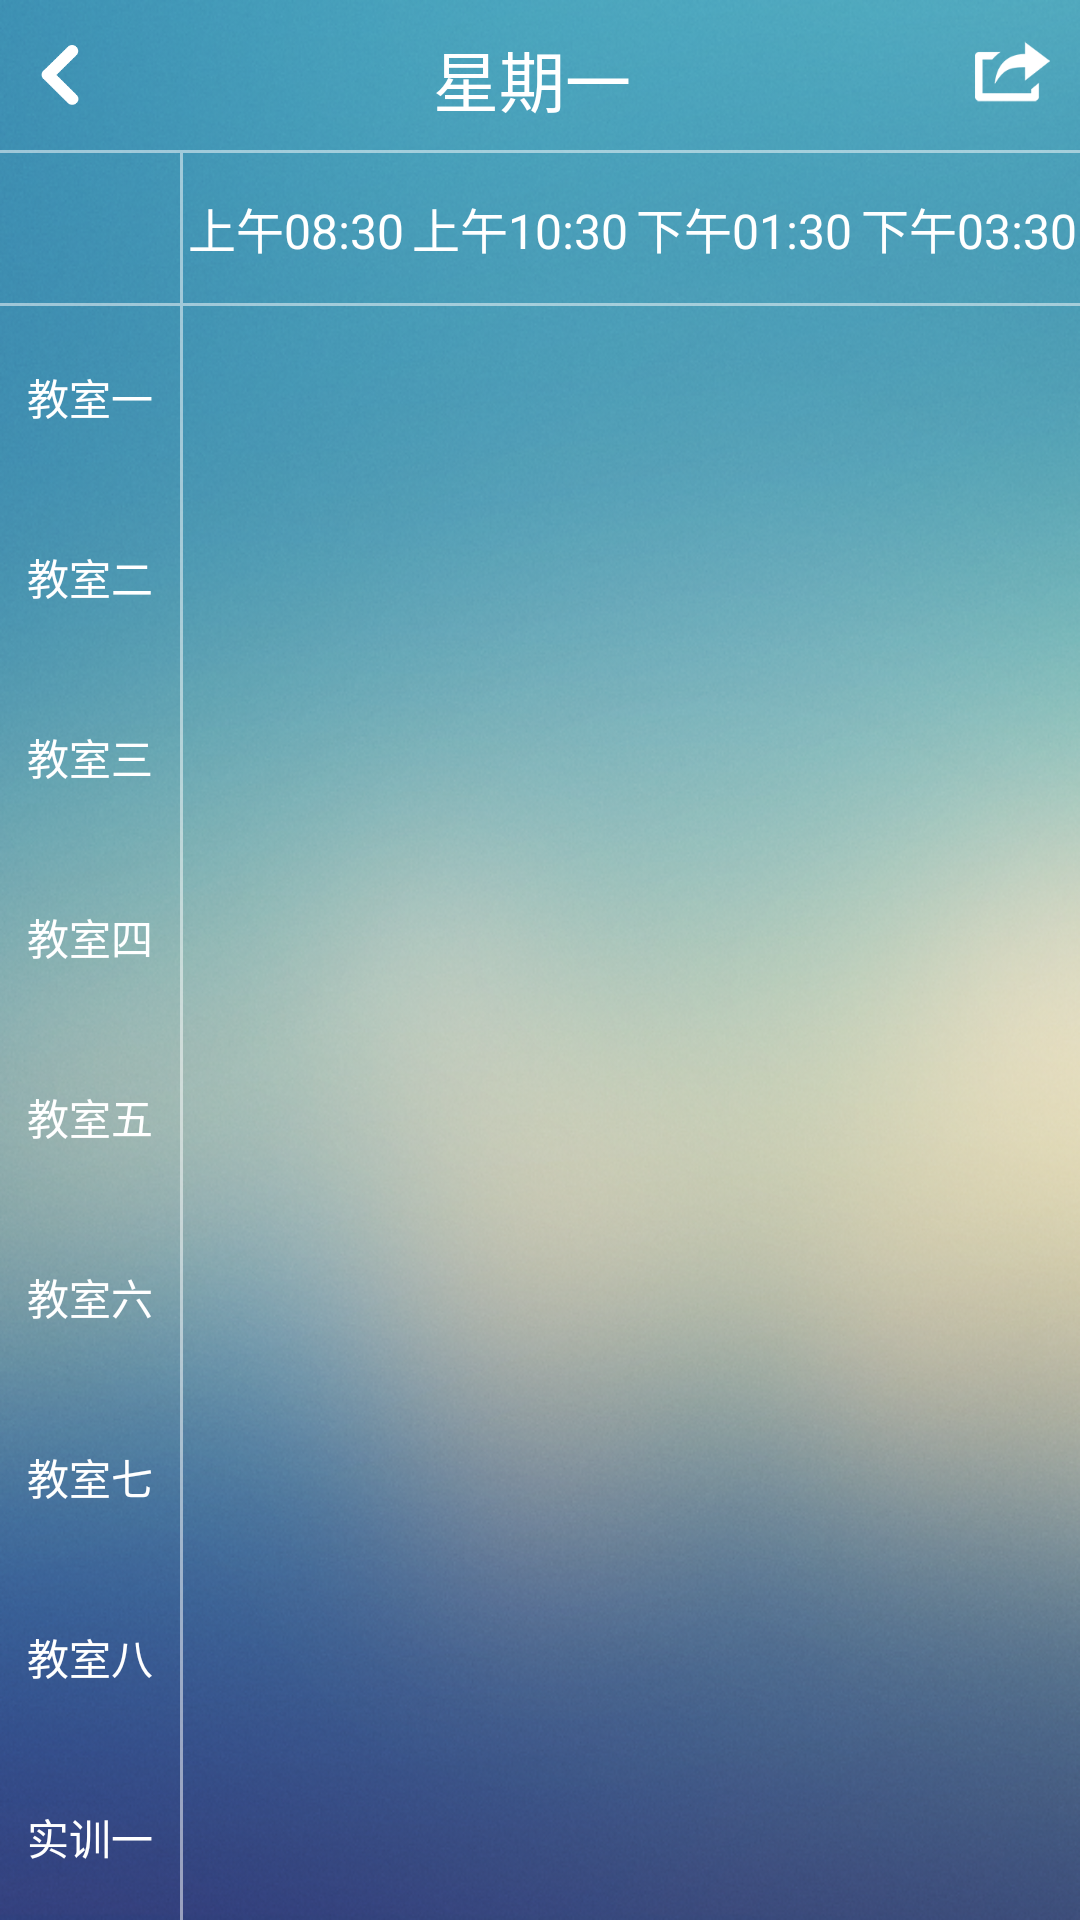

Icon click points for this 1080×1920 phone screenshot, format (x=x, y=y):
back: (x=60, y=75)
export: (x=1012, y=72)
